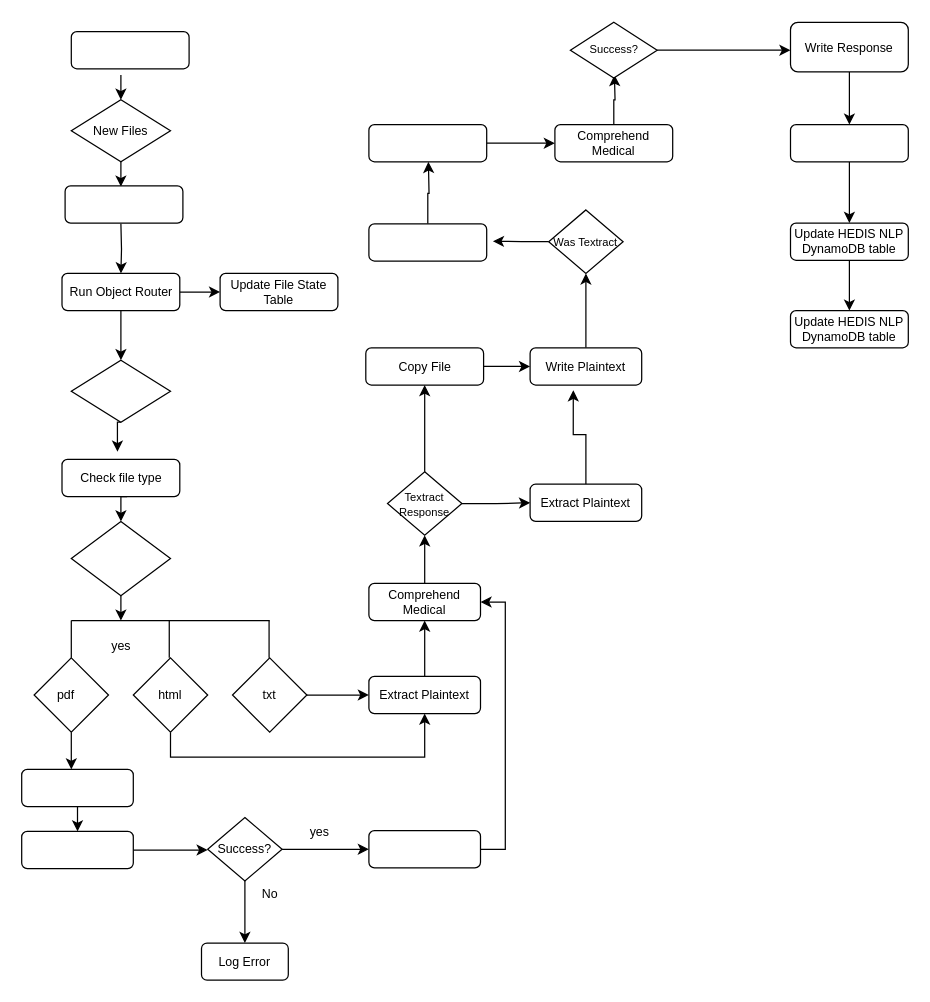
Image size: 930x1002. Some labels were removed from this diagram. The box of each missing label's shape, as (x1, y1, x2, y2) in pixels:
Extract HEDIS NLP data points: (789, 123, 908, 162)
File Ingestion Schedule: (70, 30, 189, 69)
Files to Process: (70, 359, 170, 422)
For each page: (368, 123, 487, 162)
Run Textract: (20, 768, 133, 807)
Split pages: (368, 223, 487, 261)
Supported File: (70, 520, 170, 596)
Text Extract Exploration Results: (20, 830, 133, 869)
Unzip, Metadata Capture and Publish: (64, 185, 183, 223)
Write results: (368, 829, 480, 868)
